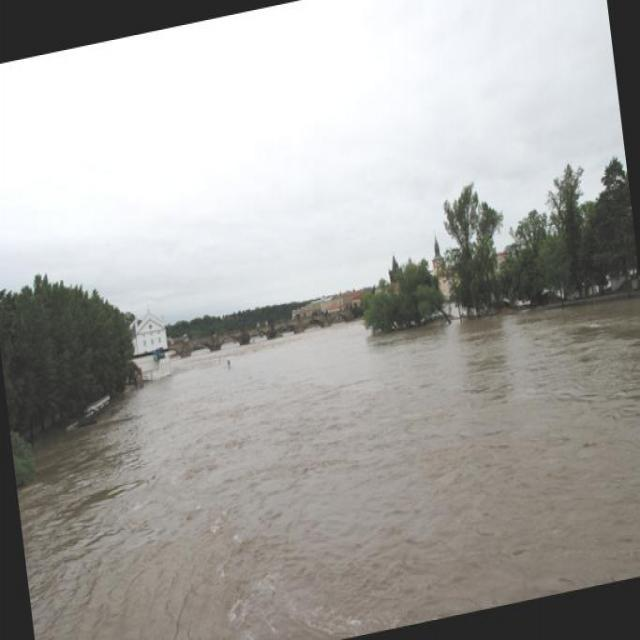flood: (7, 236, 639, 639)
